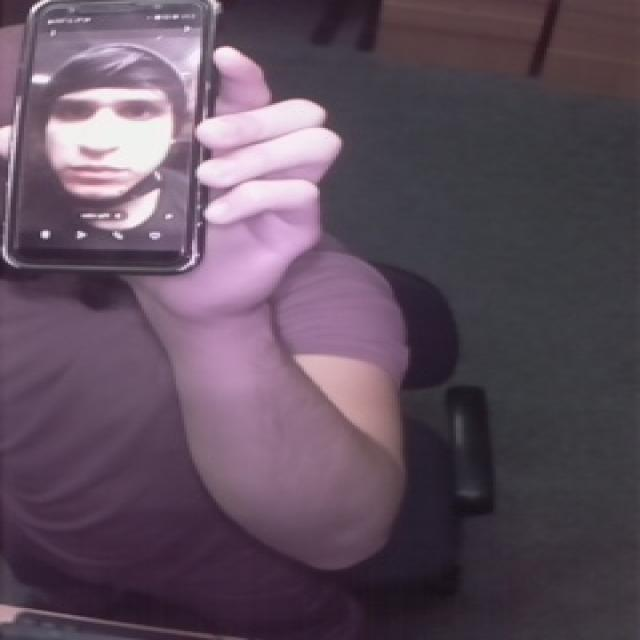phone: (0, 0, 217, 295)
